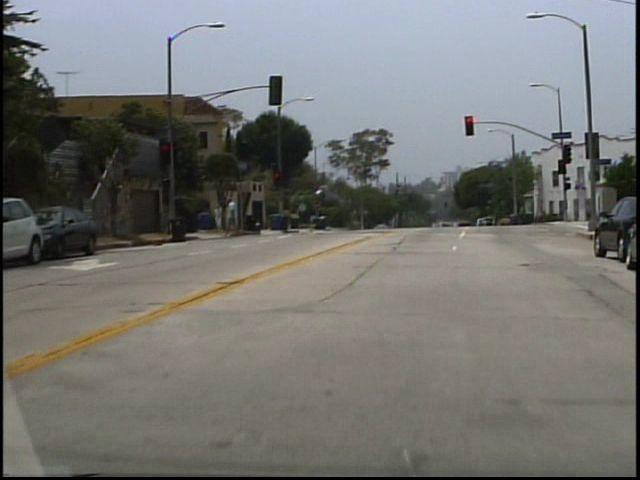person: (230, 197, 246, 239), (219, 203, 228, 235)
